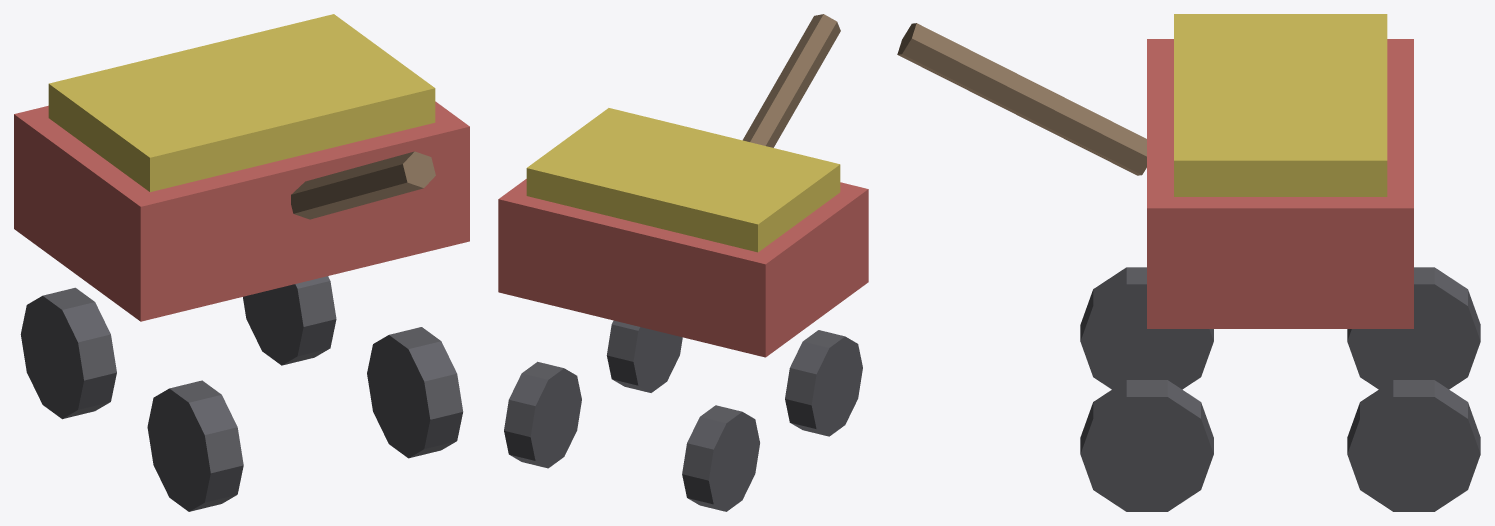
The model's file is kids_carrinho.glb.
The picture shows the model from 3 angles, left to right: view 1: azimuth 30°, elevation 25°; view 2: azimuth 150°, elevation 25°; view 3: azimuth 270°, elevation 25°; orthographic projection. The views are drawn at different scales.
Visible parts, largest first — view 1: KIDS_CARRINHO_v01; view 2: KIDS_CARRINHO_v01; view 3: KIDS_CARRINHO_v01.
Boxes of the visible parts, x1,y1,x2,y2 form: KIDS_CARRINHO_v01: [14, 14, 469, 511]; KIDS_CARRINHO_v01: [498, 14, 868, 511]; KIDS_CARRINHO_v01: [897, 14, 1480, 511].
Bounding box in the file's own units: 0.3 × 0.3507 × 0.4373.
